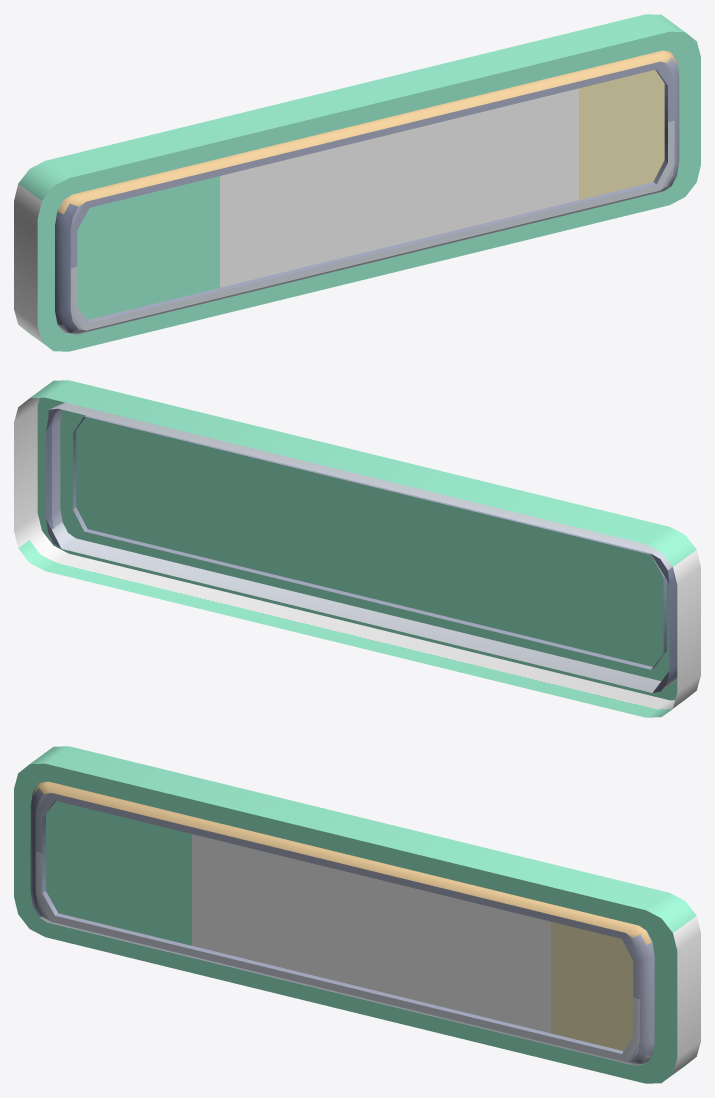
The model's file is HpBar.fbx.
3 renders of one model, top to bottom at view 1: azimuth 30°, elevation 25°; view 2: azimuth 150°, elevation 25°; view 3: azimuth 330°, elevation 25°, orthographic.
Parts seen in each view (by area): view 1: hp_bar, red_line; view 2: hp_bar; view 3: hp_bar, red_line.
Boxes of the visible parts, bbox=[...] form: hp_bar: bbox=[14, 14, 700, 351]; red_line: bbox=[77, 70, 664, 319]; hp_bar: bbox=[14, 380, 700, 717]; hp_bar: bbox=[14, 746, 700, 1083]; red_line: bbox=[46, 801, 633, 1050].
Size of the model in its own units: 4 by 1 by 0.3064.
